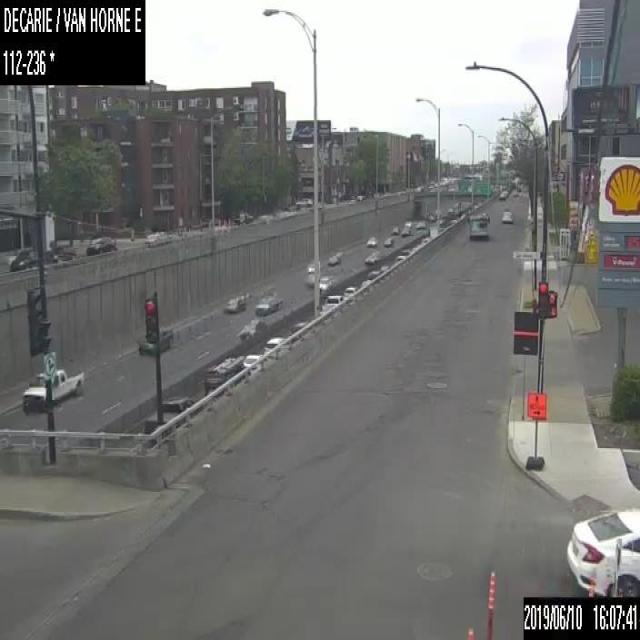construction: (524, 391, 546, 468), (486, 564, 494, 639), (464, 626, 474, 638)
vehicle: (565, 508, 639, 596), (22, 366, 84, 411), (143, 394, 201, 434), (202, 356, 249, 395), (136, 327, 173, 353), (10, 243, 43, 268), (85, 234, 116, 255), (239, 318, 267, 340), (467, 212, 489, 237), (254, 296, 282, 314), (320, 294, 343, 315), (263, 336, 286, 356), (242, 353, 264, 369), (224, 296, 246, 312), (145, 231, 169, 245), (287, 321, 305, 338), (318, 275, 333, 291), (364, 251, 379, 264), (500, 207, 513, 221), (343, 285, 357, 298), (306, 265, 314, 287), (296, 197, 312, 207), (396, 248, 409, 260), (366, 236, 378, 247), (326, 254, 339, 264), (367, 270, 379, 280), (382, 236, 393, 245), (400, 226, 410, 235), (379, 264, 388, 274), (360, 279, 370, 288), (391, 225, 399, 234), (404, 220, 412, 227), (498, 192, 504, 200), (39, 243, 40, 244)
